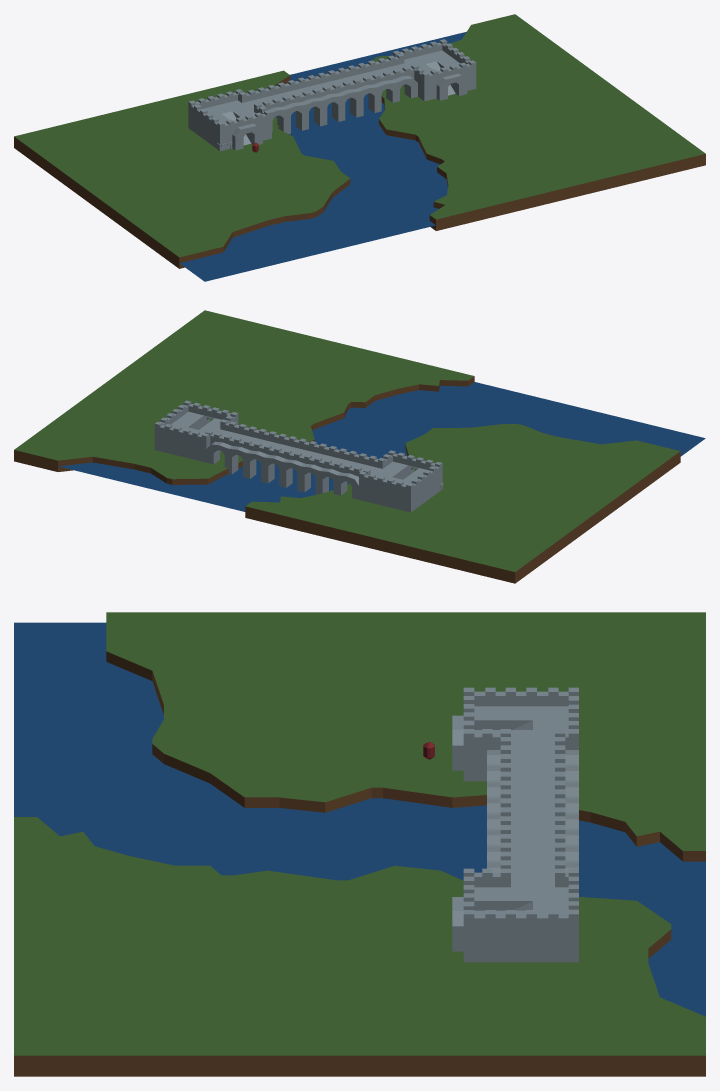
The model's file is bridge.glb.
3 views of the same model, one above another, from view 1: azimuth 30°, elevation 25°; view 2: azimuth 150°, elevation 25°; view 3: azimuth 270°, elevation 25° (orthographic). The views are drawn at different scales.
Parts seen in each view (by area): view 1: ground-col, water, arch-col; view 2: ground-col, water, arch-col; view 3: ground-col, water, arch-col.
Boxes of the visible parts, left/top/right/bottom form: ground-col: left=14, top=14, right=705, bottom=268; water: left=179, top=32, right=466, bottom=281; arch-col: left=188, top=39, right=476, bottom=151; ground-col: left=14, top=310, right=680, bottom=583; water: left=58, top=382, right=705, bottom=511; arch-col: left=154, top=400, right=443, bottom=512; ground-col: left=14, top=612, right=705, bottom=1076; water: left=14, top=622, right=705, bottom=1016; arch-col: left=452, top=687, right=578, bottom=962.
Size of what is drawn, in the model's own units: 91 by 6.58 by 60.
